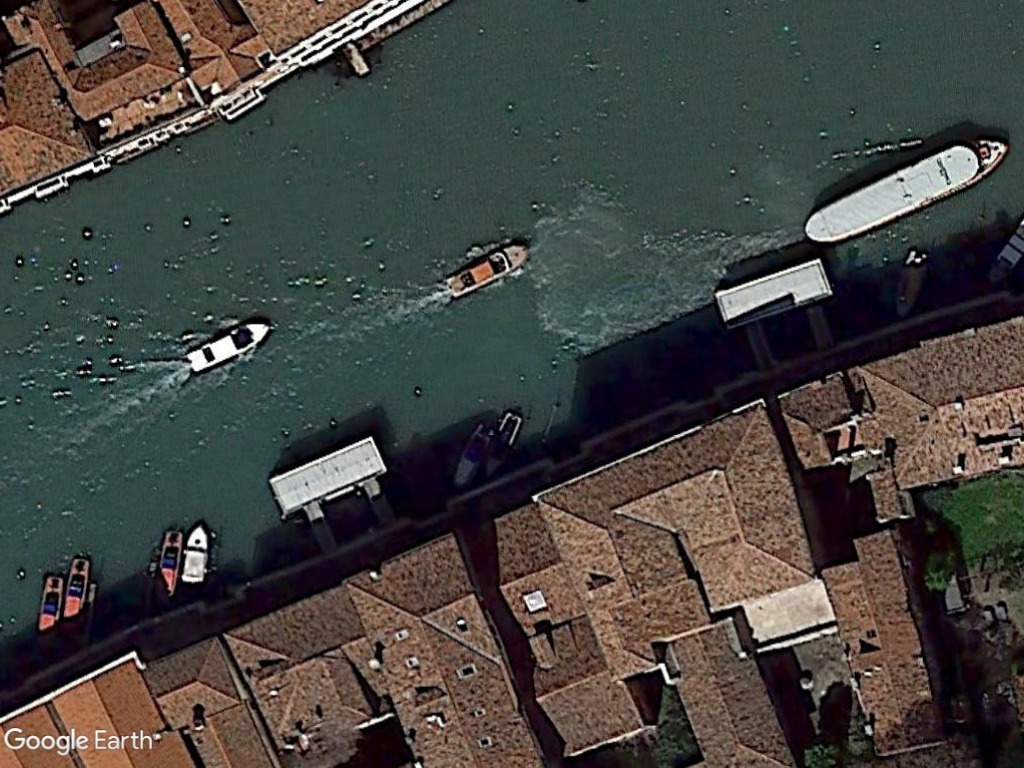boat: (801, 134, 1015, 248), (439, 237, 533, 303), (183, 316, 271, 378), (179, 519, 215, 588)
